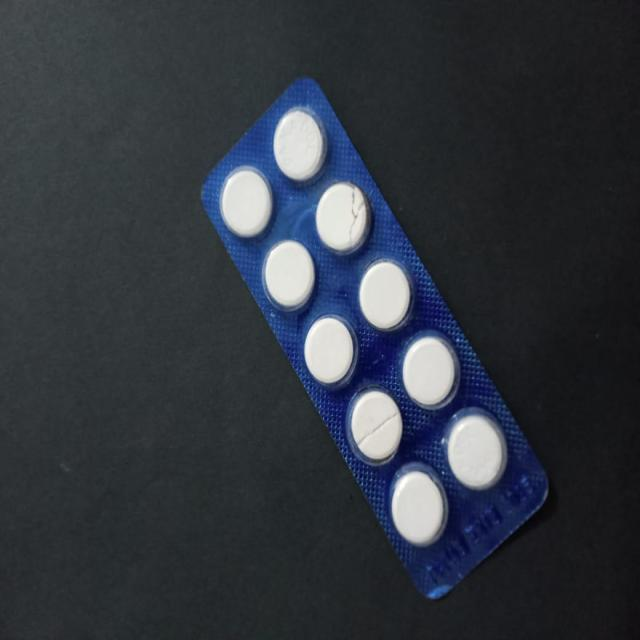defect: (341, 383, 406, 469), (312, 178, 374, 260)
